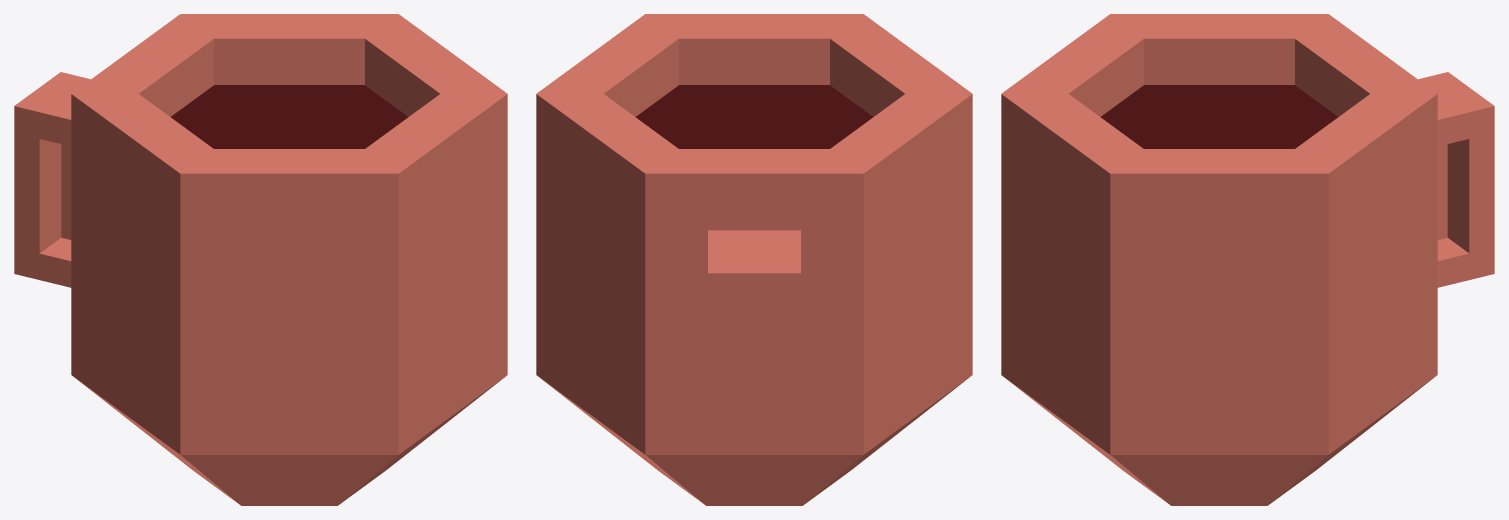
The model's file is Mug.fbx.
The picture shows the model from 3 angles, left to right: view 1: azimuth 30°, elevation 25°; view 2: azimuth 150°, elevation 25°; view 3: azimuth 270°, elevation 25°; orthographic projection.
Parts seen in each view (by area): view 1: Mug; view 2: Mug; view 3: Mug.
Part boxes in pixels (x1,y1,x2,y2): Mug: (14, 14, 507, 505); Mug: (536, 14, 972, 505); Mug: (1001, 14, 1494, 505).
Size of the model in its own units: 30.64 by 33.71 by 40.
